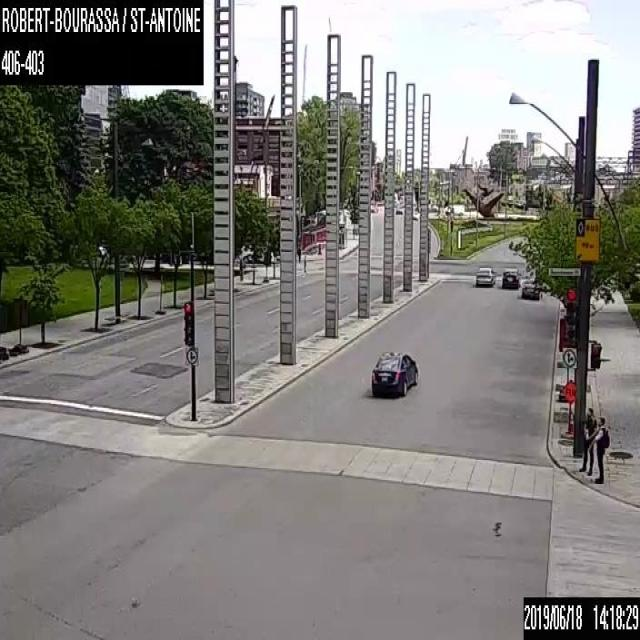construction: (560, 378, 574, 438)
pedestrian: (578, 406, 597, 474), (592, 414, 609, 482)
vehicle: (370, 349, 417, 396), (474, 264, 494, 287), (521, 276, 540, 297), (501, 267, 518, 288), (395, 208, 402, 214), (413, 210, 417, 219)
